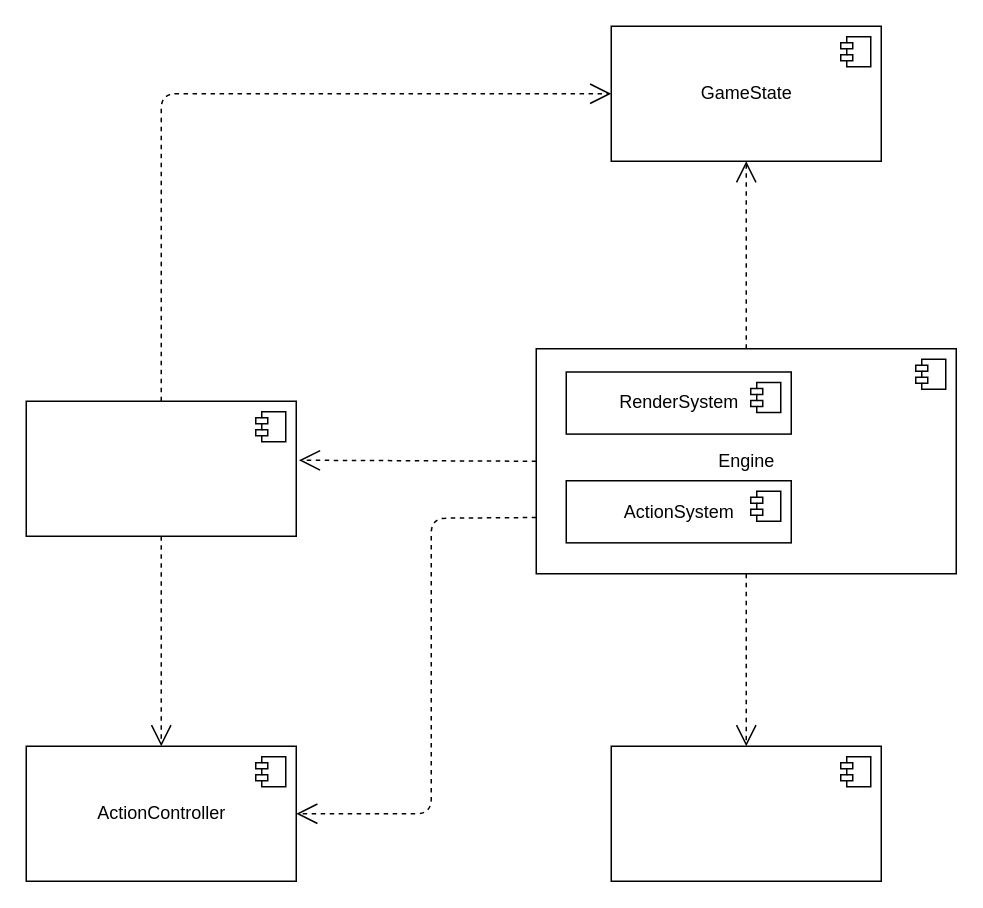
This 983x908 diagram has some shape labels left out. The centre of each missing label's shape, as x and y in pixels:
"LevelCreator" belongs at point 745,813.
"Listener" belongs at point 160,468.
